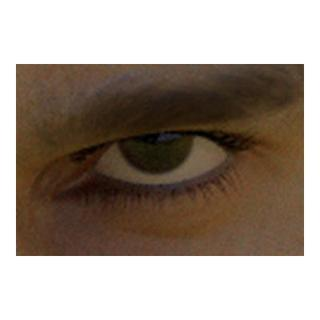pupil: (136, 116, 175, 155)
